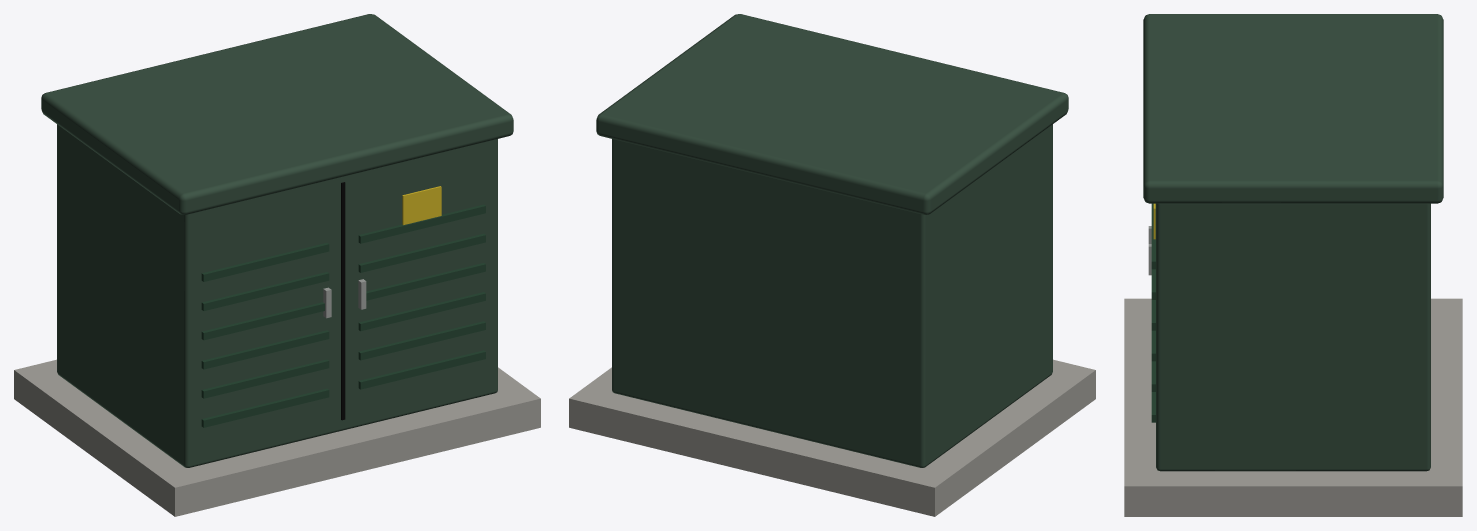
File: energy.substation.kiosk_steel.glb
3 renders of one model, left to right at view 1: azimuth 30°, elevation 25°; view 2: azimuth 150°, elevation 25°; view 3: azimuth 270°, elevation 25°, orthographic. The views are drawn at different scales.
Visible parts, largest first — view 1: main__enamel_354, main__concrete_a99, main__paint_243, main__enamel_cb2, main__rubber; view 2: main__enamel_354, main__concrete_a99; view 3: main__enamel_354, main__concrete_a99, main__paint_243.
Part boxes in pixels (box(x1,y1,x2,y2)): main__enamel_354: box(41, 14, 513, 467); main__concrete_a99: box(14, 359, 540, 516); main__paint_243: box(201, 204, 485, 427); main__enamel_cb2: box(402, 186, 441, 225); main__rubber: box(341, 182, 345, 420); main__enamel_354: box(596, 14, 1068, 467); main__concrete_a99: box(569, 359, 1095, 516); main__enamel_354: box(1143, 14, 1443, 471); main__concrete_a99: box(1124, 298, 1462, 516); main__paint_243: box(1151, 203, 1155, 422).
Size of the model in its own units: 2.1 by 1.7 by 1.6.
